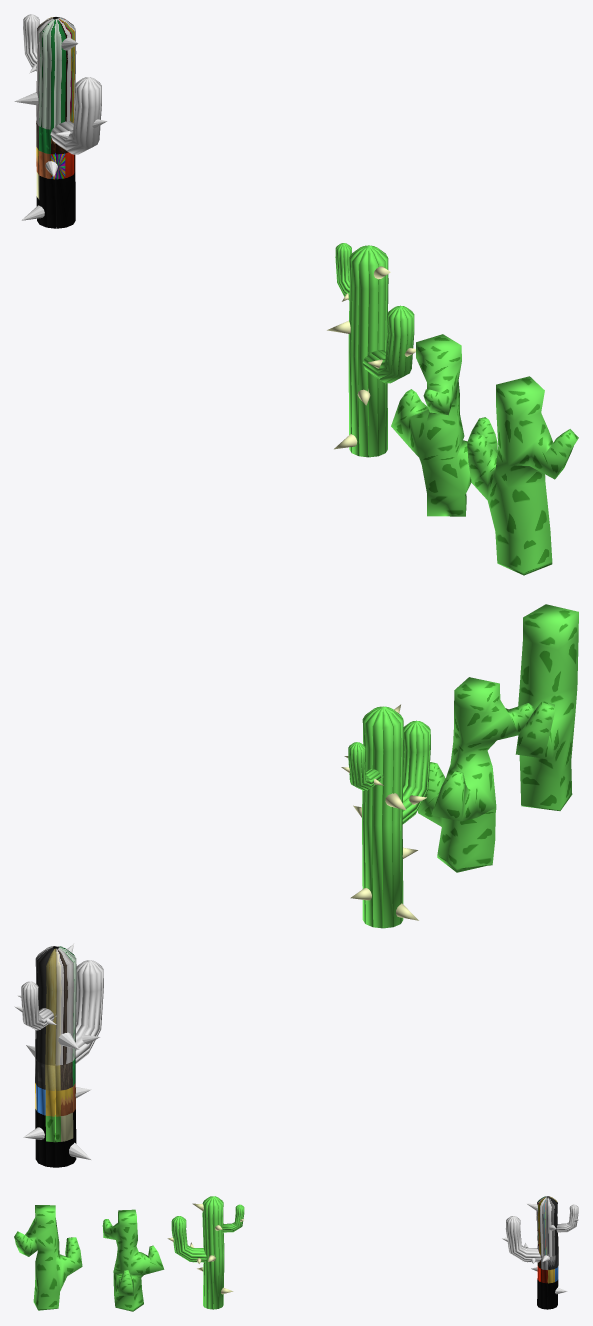
The model's file is cacti.glb.
3 views of the same model, one above another, from view 1: azimuth 30°, elevation 25°; view 2: azimuth 150°, elevation 25°; view 3: azimuth 270°, elevation 25° (orthographic). The views are drawn at different scales.
Visible parts, largest first — view 1: Cube, Cylinder, Cube.002, Cylinder.003, Cylinder.004, Cone; view 2: Cylinder, Cube.002, Cube, Cylinder.003, Cylinder.004, Cylinder.005, Cone; view 3: Cube, Cylinder, Cube.002, Cylinder.003, Cylinder.004, Cylinder.005, Cone.
Part boxes in pixels (x1,y1,x2,y2): Cube: [467, 376, 578, 575]; Cylinder: [335, 243, 414, 457]; Cube.002: [391, 334, 497, 516]; Cylinder.003: [36, 17, 76, 228]; Cylinder.004: [50, 77, 101, 154]; Cone: [327, 266, 415, 449]; Cylinder: [348, 706, 430, 928]; Cube.002: [418, 677, 534, 872]; Cube: [515, 604, 578, 810]; Cylinder.003: [35, 946, 76, 1167]; Cylinder.004: [75, 960, 103, 1063]; Cylinder.005: [21, 981, 56, 1030]; Cone: [341, 704, 426, 920]; Cube: [14, 1205, 82, 1310]; Cylinder: [171, 1196, 244, 1309]; Cube.002: [102, 1209, 164, 1311]; Cylinder.003: [536, 1196, 558, 1309]; Cylinder.004: [505, 1216, 541, 1262]; Cylinder.005: [556, 1204, 578, 1232]; Cone: [167, 1203, 244, 1294].
Size of the model in its own units: 1.29 by 2.88 by 13.52.
Materials: 1 (1 with a texture image).
